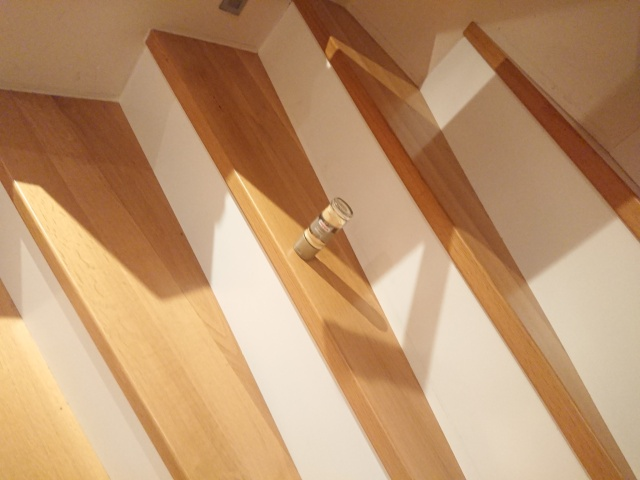Kotanyi Garlic Granules 70g: (291, 195, 355, 263)
